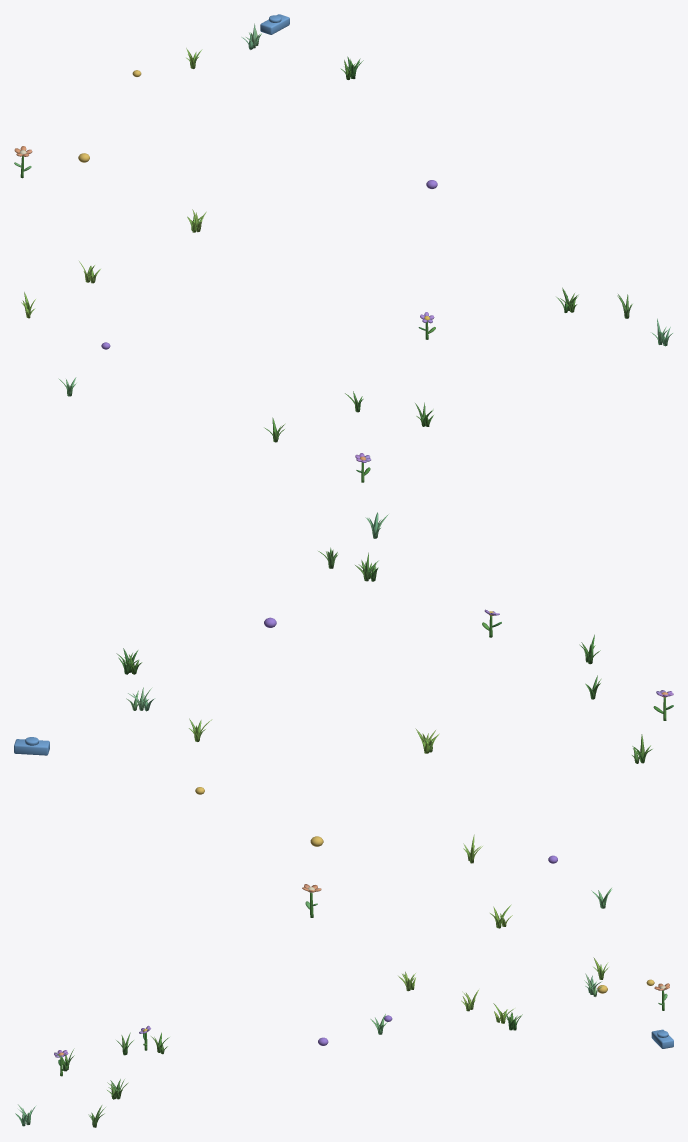
The model's file is W1_FloraRing_12_9.fbx.
3 renders of one model, top to bottom at view 1: azimuth 30°, elevation 25°; view 2: azimuth 150°, elevation 25°; view 3: azimuth 270°, elevation 25°, orthographic. The views are drawn at different scales.
Visible parts, largest first — view 1: W1_FloraRing_12_9; view 2: W1_FloraRing_12_9; view 3: W1_FloraRing_12_9.
Boxes of the visible parts, left/top/right/bottom form: W1_FloraRing_12_9: left=14, top=14, right=672, bottom=482; W1_FloraRing_12_9: left=14, top=512, right=673, bottom=928; W1_FloraRing_12_9: left=15, top=957, right=673, bottom=1127.
Size of the model in its own units: 2.63 by 1.26 by 3.94.
